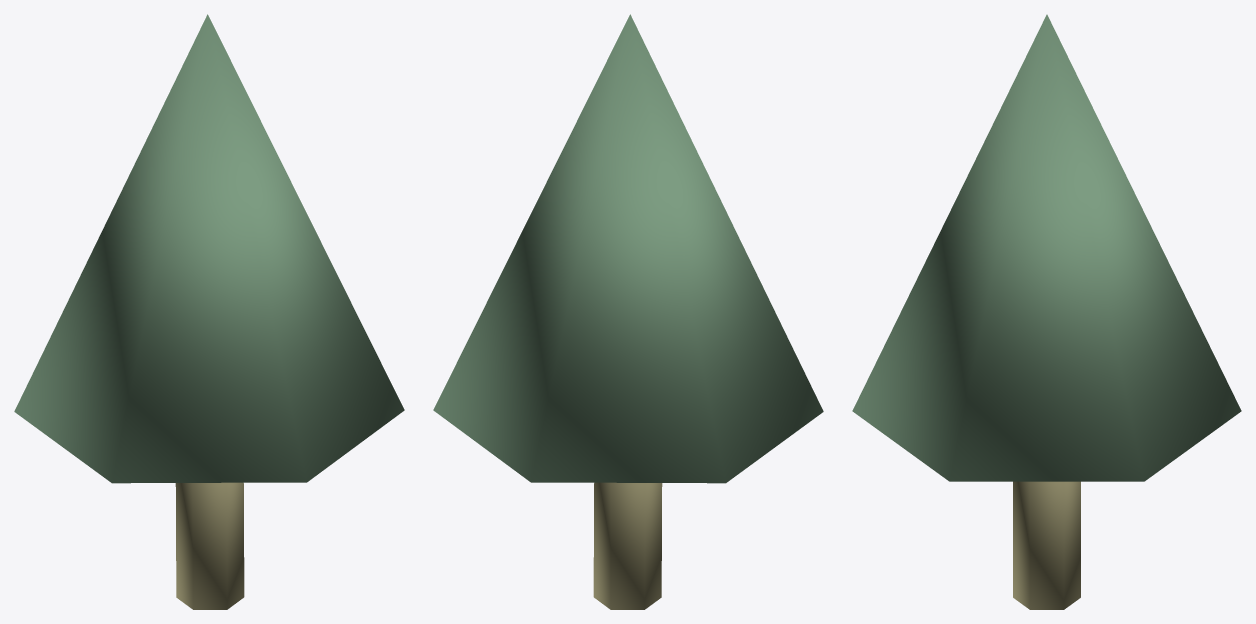
File: ambient_tree_18.glb
3 renders of one model, left to right at view 1: azimuth 30°, elevation 25°; view 2: azimuth 150°, elevation 25°; view 3: azimuth 270°, elevation 25°, orthographic.
Visible parts, largest first — view 1: ambient_tree_18; view 2: ambient_tree_18; view 3: ambient_tree_18.
Part boxes in pixels (bbox=[...]): ambient_tree_18: bbox=[14, 14, 404, 609]; ambient_tree_18: bbox=[433, 14, 823, 609]; ambient_tree_18: bbox=[852, 14, 1241, 609].
Bounding box in the file's own units: 0.9206 × 1.75 × 1.06.
